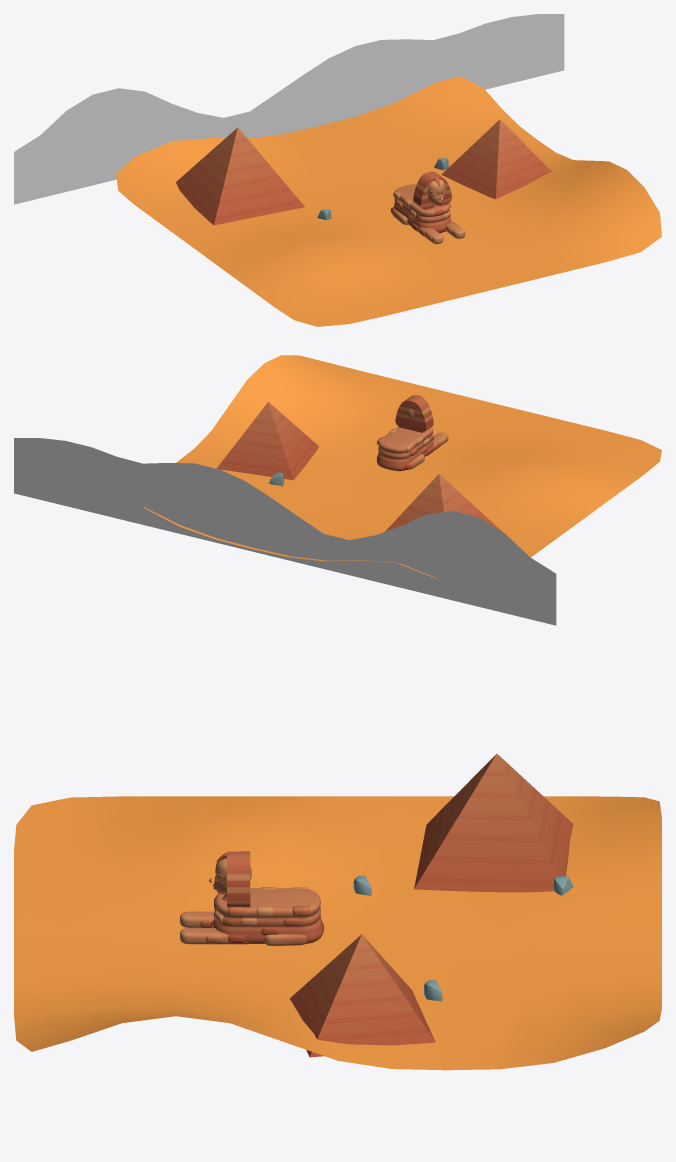
File: Sphinx.fbx
The picture shows the model from 3 angles, top to bottom: view 1: azimuth 30°, elevation 25°; view 2: azimuth 150°, elevation 25°; view 3: azimuth 270°, elevation 25°; orthographic projection. The views are drawn at different scales.
Parts seen in each view (by area): view 1: SandGround, DesertBG, Pyramid01.001, Pyramid01, SphinxBody, Cube.033; view 2: SandGround, DesertBG, Pyramid01, SphinxBody, Pyramid01.001, Cube.033; view 3: SandGround, Pyramid01.001, Pyramid01, SphinxBody, Cube.033.
Part boxes in pixels (box(x1,y1,x2,y2)): SandGround: box(116, 76, 661, 326); DesertBG: box(14, 14, 564, 204); Pyramid01.001: box(176, 127, 304, 225); Pyramid01: box(441, 119, 551, 199); SphinxBody: box(391, 184, 465, 244); Cube.033: box(413, 171, 451, 209); SandGround: box(142, 355, 661, 579); DesertBG: box(14, 438, 556, 625); Pyramid01: box(216, 402, 318, 480); SphinxBody: box(376, 426, 448, 471); Pyramid01.001: box(385, 474, 502, 531); Cube.033: box(395, 395, 433, 432); SandGround: box(14, 796, 661, 1070); Pyramid01.001: box(414, 754, 573, 892); Pyramid01: box(289, 934, 435, 1057); SphinxBody: box(180, 887, 324, 946); Cube.033: box(216, 851, 250, 907).
Size of the model in its own units: 2755 by 442 by 1846.
